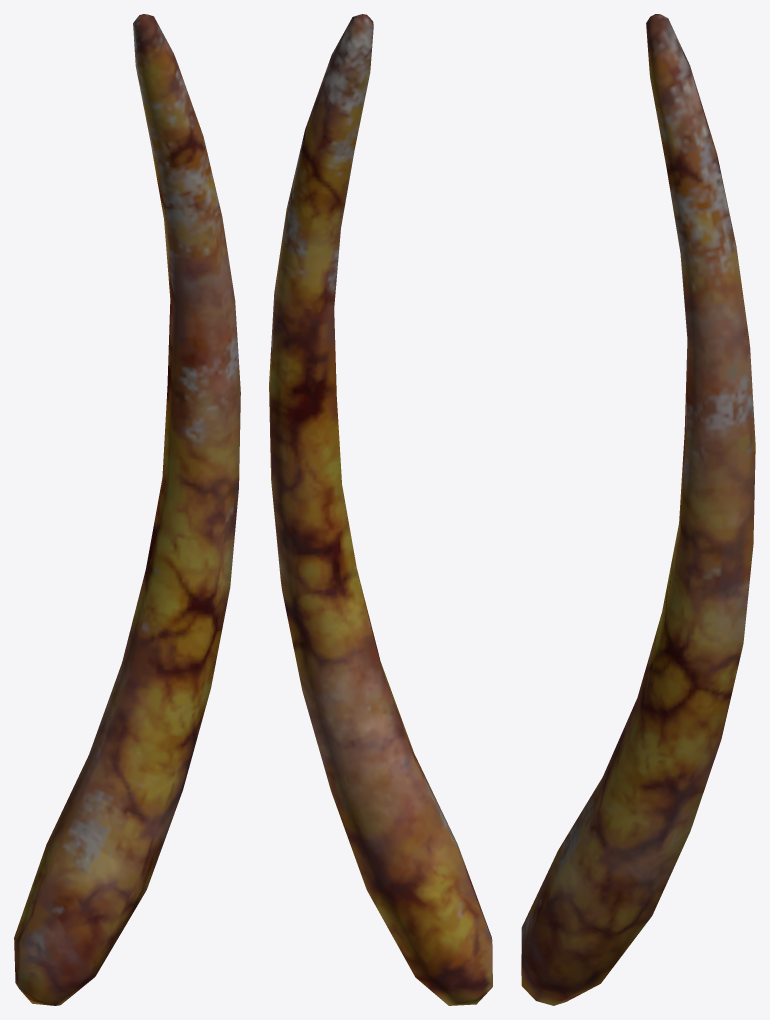
File: Mutation3.fbx
3 renders of one model, left to right at view 1: azimuth 30°, elevation 25°; view 2: azimuth 150°, elevation 25°; view 3: azimuth 330°, elevation 25°, orthographic. The views are drawn at different scales.
Parts seen in each view (by area): view 1: P_Mutation03.mo; view 2: P_Mutation03.mo; view 3: P_Mutation03.mo.
Part boxes in pixels (<box>): P_Mutation03.mo: <box>14,14,240,1005</box>; P_Mutation03.mo: <box>269,14,492,1005</box>; P_Mutation03.mo: <box>521,14,755,1005</box>.
Size of the model in its own units: 20.48 by 85.94 by 9.08.
